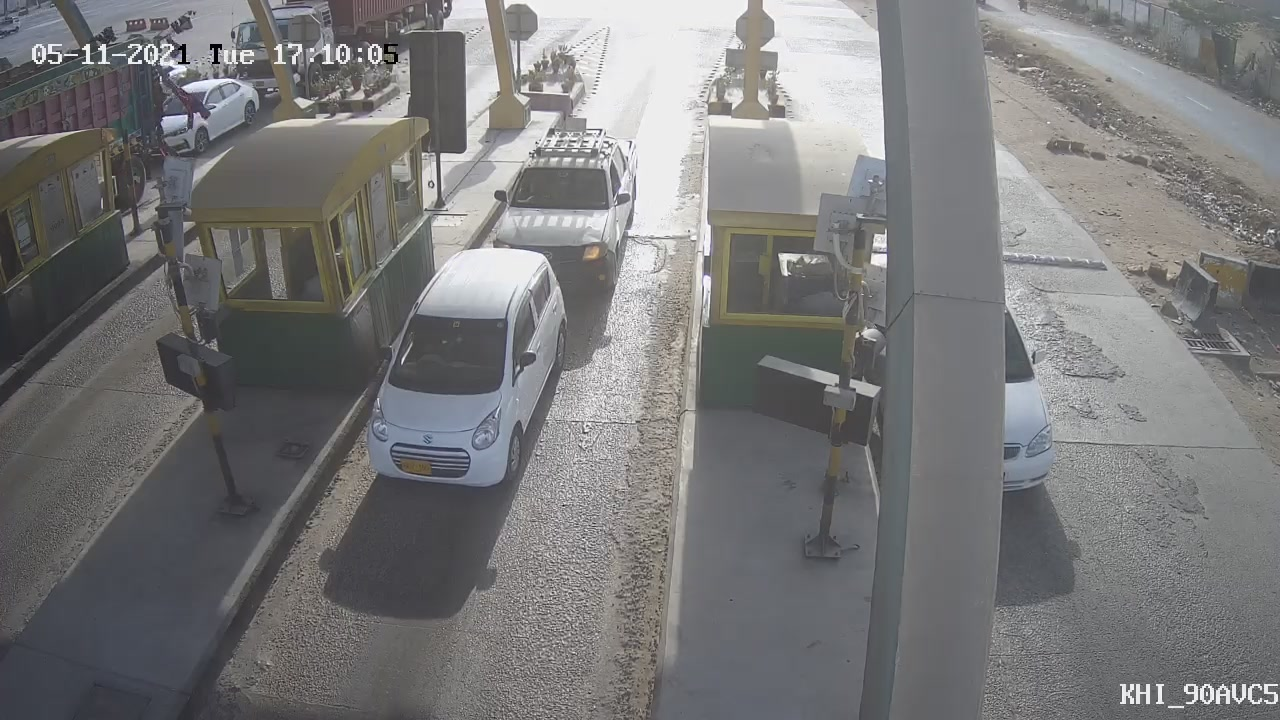F1: (340, 231, 592, 505), (470, 104, 656, 308)
